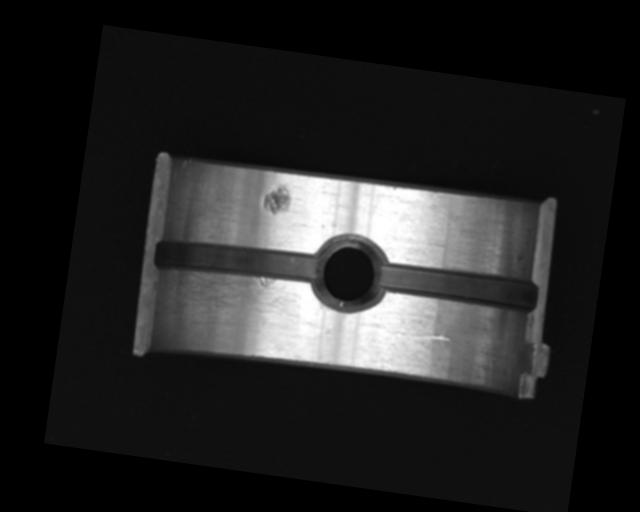bruise: (261, 181, 293, 217)
gap: (152, 231, 324, 292), (374, 258, 539, 316)
hole: (313, 231, 390, 317)
nick: (394, 328, 451, 346)
scratch: (158, 261, 318, 348)
